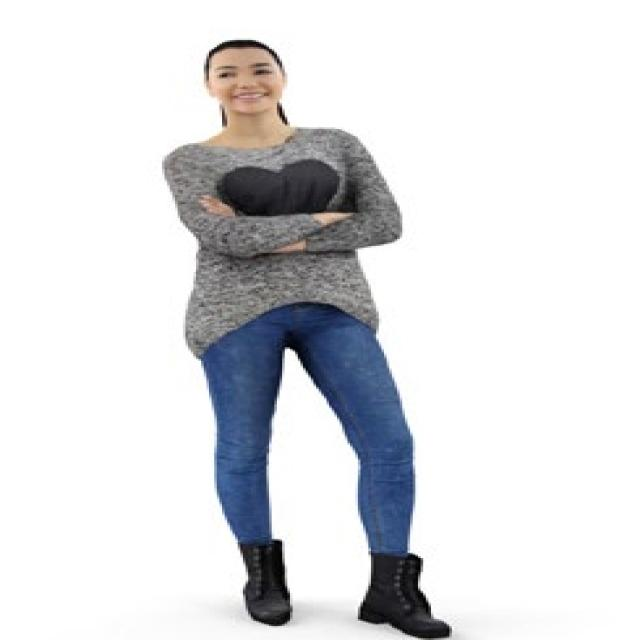standing: (160, 37, 463, 640)
